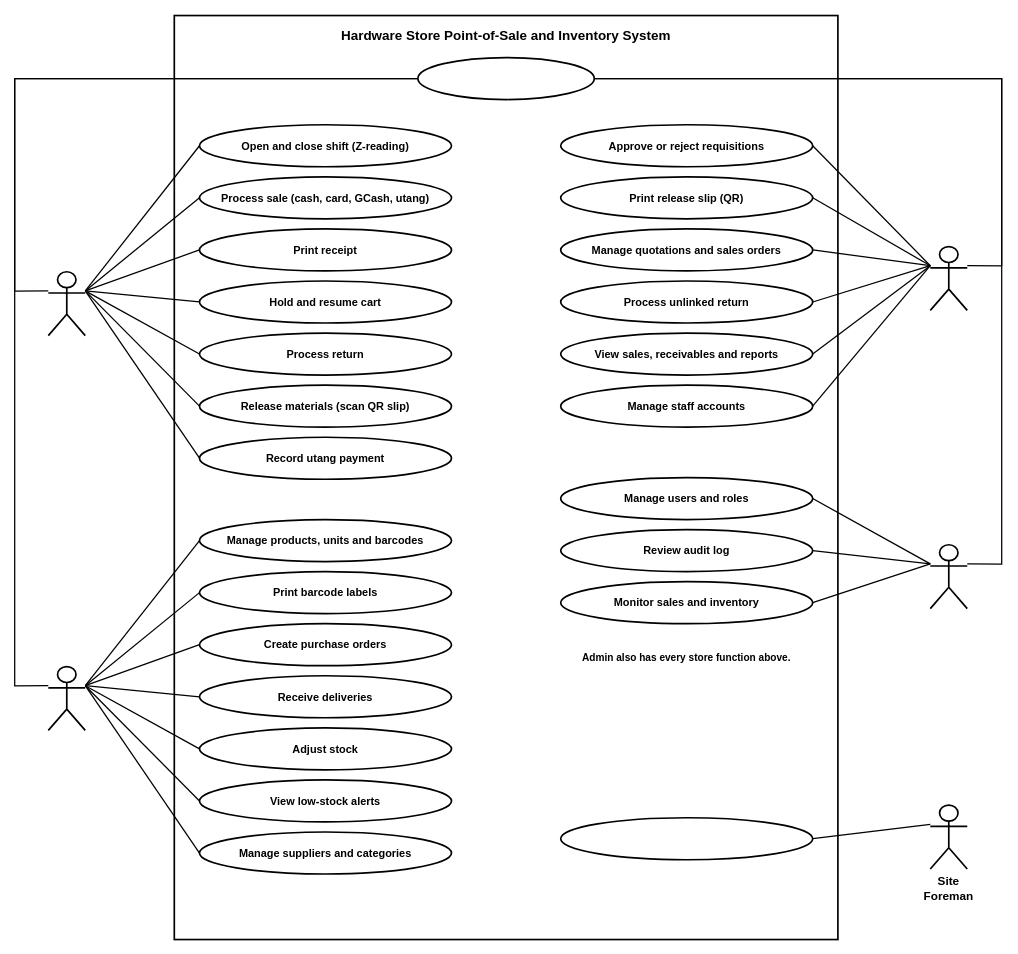
This 1018x954 diagram has some shape labels left out. Each missing label, with the centre of its shape:
"Log in / authenticate" goes at pixel 506 78.
"Stock Manager" goes at pixel 66 698.
"Store Cashier" goes at pixel 66 303.
"Store Manager" goes at pixel 948 278.
"Submit material requisition (API only)" goes at pixel 686 838.
"System Administrator" goes at pixel 948 576.
